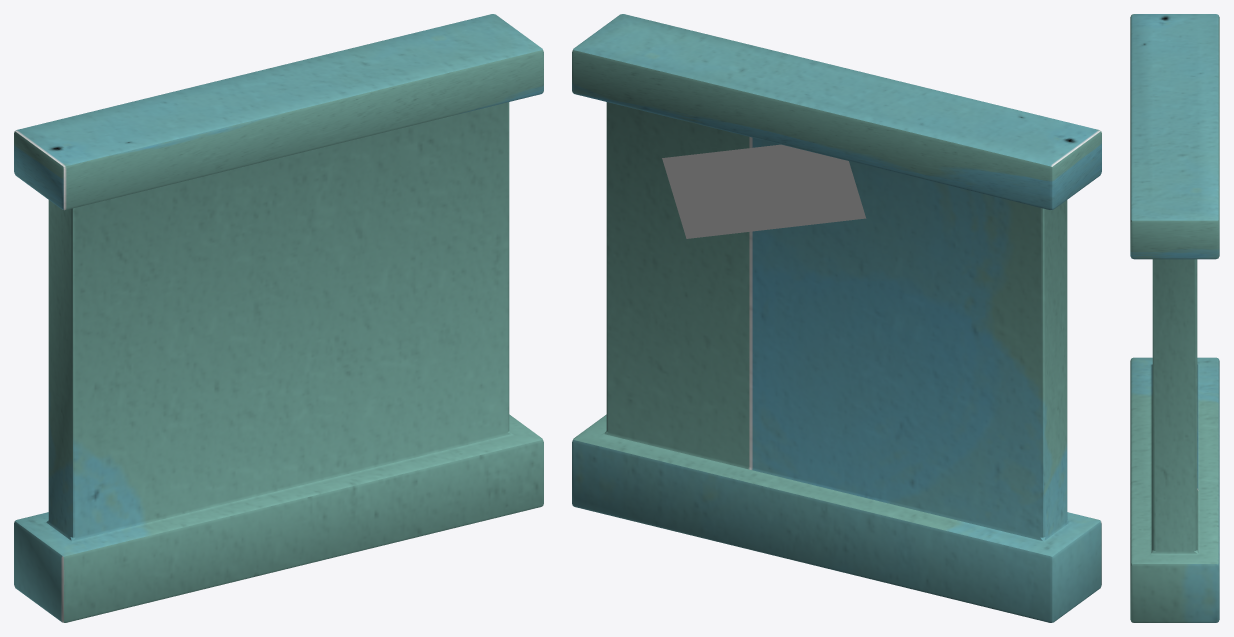
The model's file is TOMB_WALL_2_2_001.obj.
3 views of the same model, side by side, from view 1: azimuth 30°, elevation 25°; view 2: azimuth 150°, elevation 25°; view 3: azimuth 270°, elevation 25° (orthographic). The views are drawn at different scales.
Parts seen in each view (by area): view 1: TOMB_WALL_2_2_001; view 2: TOMB_WALL_2_2_001; view 3: TOMB_WALL_2_2_001.
Boxes of the visible parts, left/top/right/bottom form: TOMB_WALL_2_2_001: left=14, top=14, right=543, bottom=622; TOMB_WALL_2_2_001: left=572, top=14, right=1101, bottom=622; TOMB_WALL_2_2_001: left=1130, top=14, right=1219, bottom=622.
Size of the model in its own units: 2.2 by 2 by 0.4.
